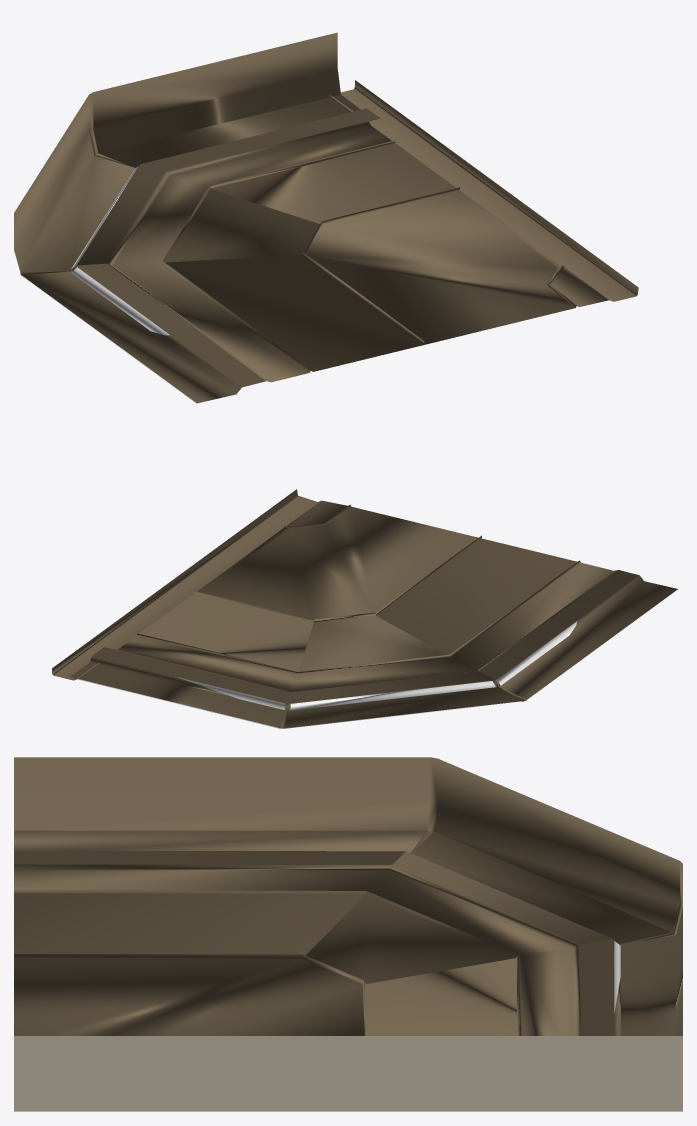
Rendered from roomsm_b_floor_bespoke_admin_area_a.glb.
3 renders of one model, top to bottom at view 1: azimuth 30°, elevation 25°; view 2: azimuth 150°, elevation 25°; view 3: azimuth 270°, elevation 25°, orthographic. The views are drawn at different scales.
Bounding box in the file's own units: 2 × 0.2508 × 2.
